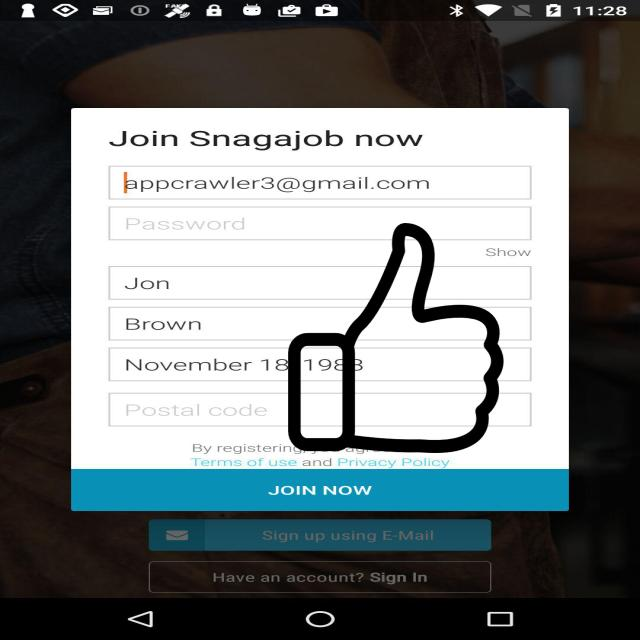privacy zuckering: (285, 223, 507, 453)
